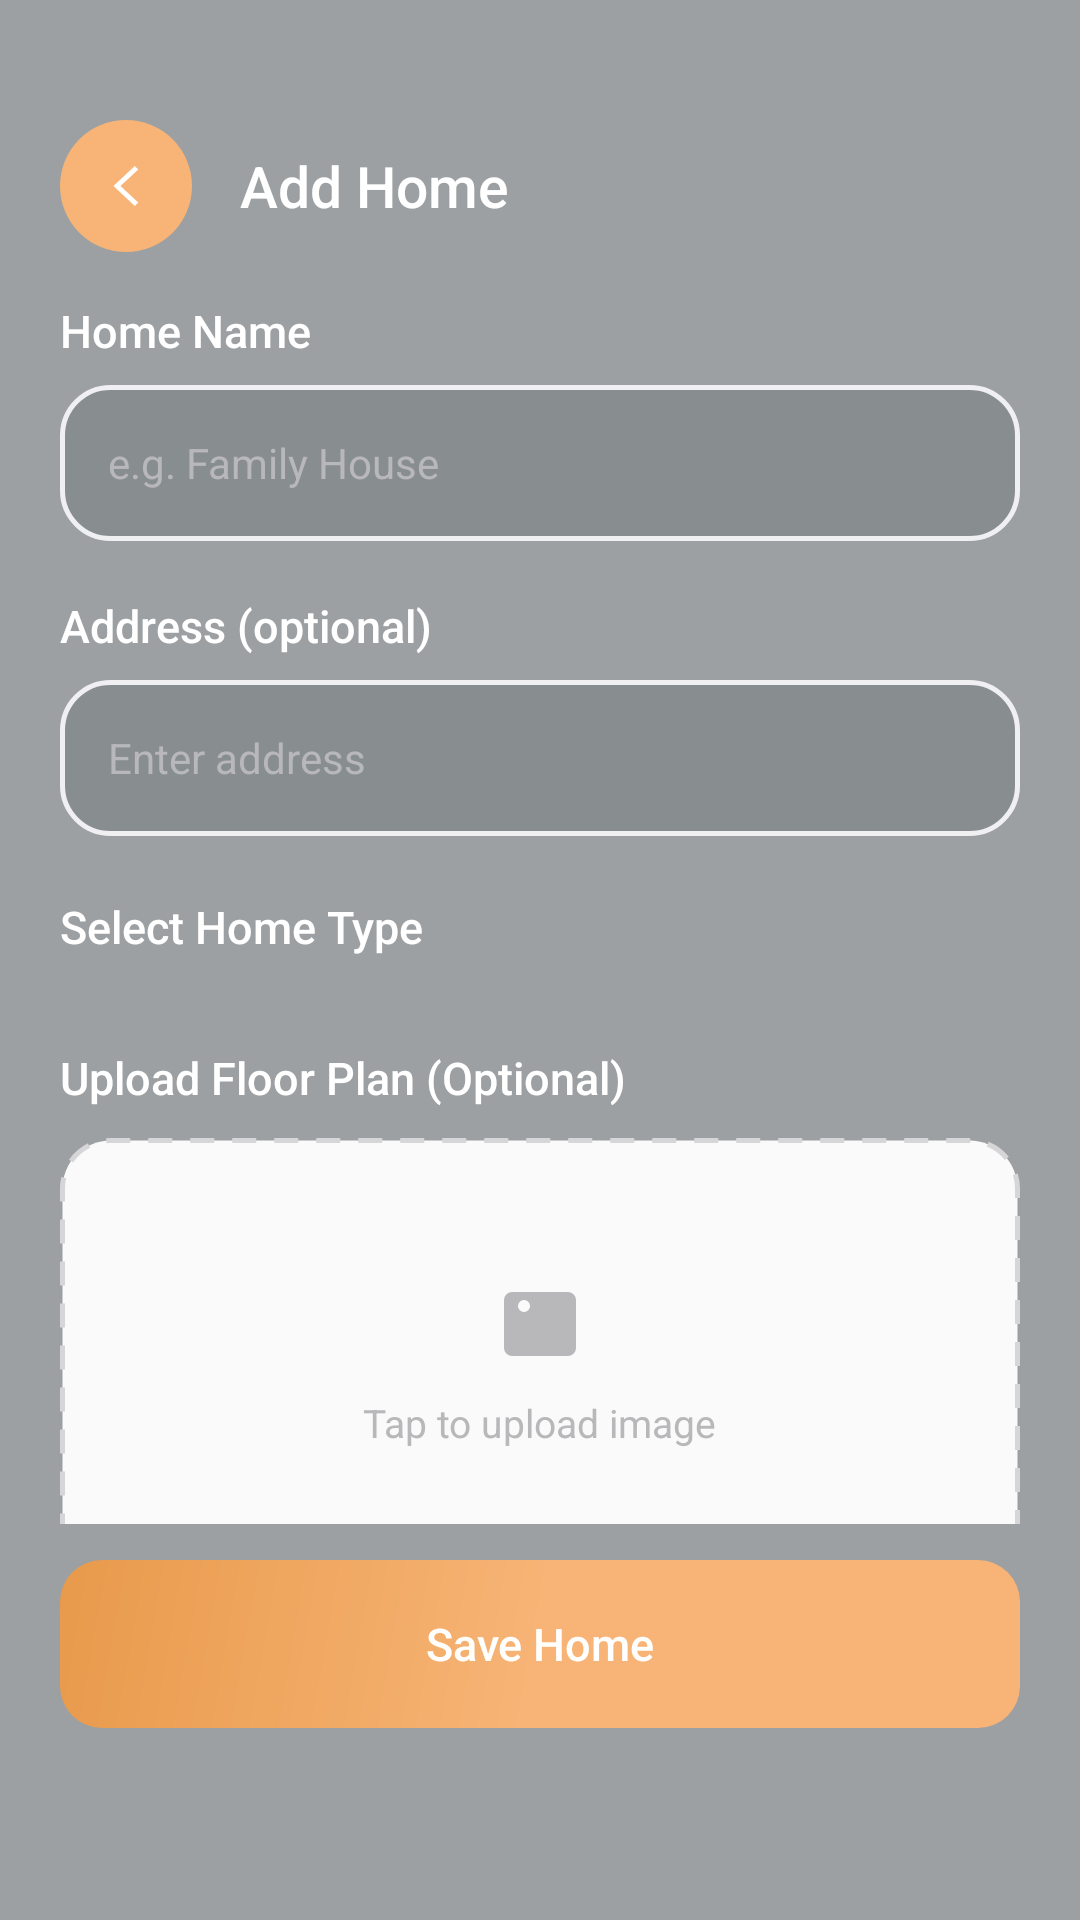

Named icons in this screenshot (1080 x 1920) and their centers, (x=x, y=y):
back: (x=126, y=186)
